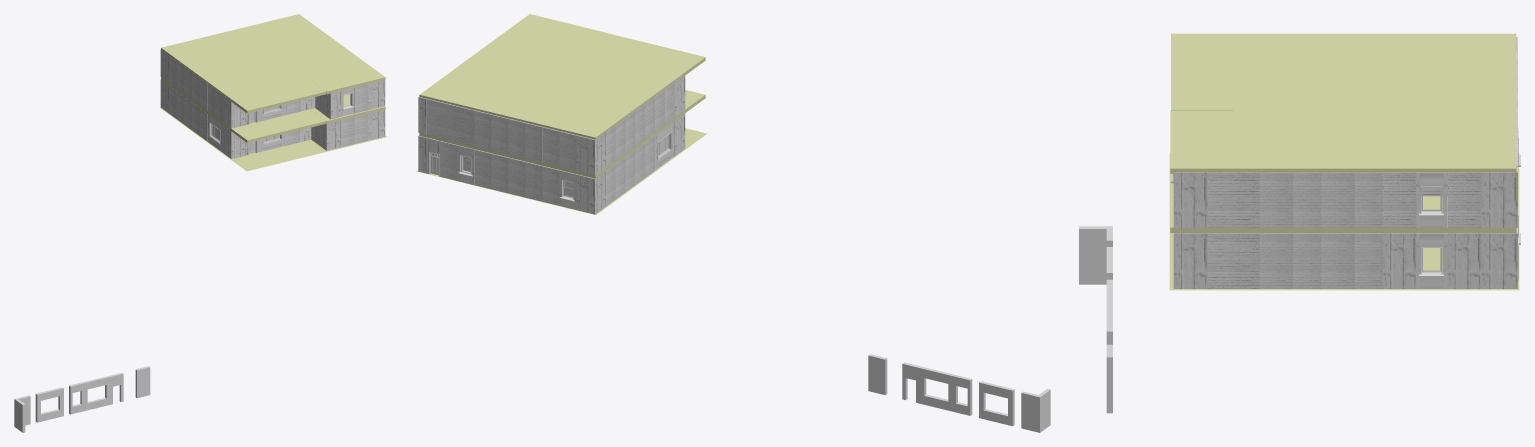
Rendered from house.fbx.
3 renders of one model, left to right at view 1: azimuth 30°, elevation 25°; view 2: azimuth 150°, elevation 25°; view 3: azimuth 270°, elevation 25°, orthographic. The views are drawn at different scales.
Visible parts, largest first — view 1: Plane.002, Plane.001, Plane, Base Jendela Modif, Base Jendela Besar, Tembok belok dalam.002, Tembok belok dalam, base tembok belok, Tembok belok dalam.013, Tembok belok dalam.003, Tembok belok dalam.018, Tembok belok dalam.014 (+5 smaller); view 2: Plane.002, Tembok.046, Plane.001, base tembok belok, Tembok belok dalam.012, Tembok belok dalam.001, Base Jendela Modif, Base Jendela Besar, Base Tembok, Tembok.008, Tembok.011, Tembok.042 (+10 smaller); view 3: Plane.002, Tembok.030, Tembok.056, Plane.001, Tembok belok dalam.017, Tembok belok dalam.011, Tembok belok dalam.014, Tembok belok dalam.003, Tembok belok dalam.010, Tembok.065, Tembok belok dalam.009, Tembok.066 (+13 smaller).
Part boxes in pixels (bbox=[...]): Plane.002: bbox=[161, 14, 385, 113]; Plane.001: bbox=[161, 77, 385, 142]; Plane: bbox=[159, 107, 386, 171]; Base Jendela Modif: bbox=[35, 387, 63, 422]; Base Jendela Besar: bbox=[82, 376, 110, 411]; Tembok belok dalam.002: bbox=[318, 120, 341, 150]; Tembok belok dalam: bbox=[223, 125, 245, 158]; base tembok belok: bbox=[14, 395, 30, 432]; Tembok belok dalam.013: bbox=[223, 95, 245, 128]; Tembok belok dalam.003: bbox=[368, 109, 385, 140]; Tembok belok dalam.018: bbox=[322, 91, 341, 119]; Tembok belok dalam.014: bbox=[368, 80, 385, 110]; Plane.002: bbox=[419, 14, 705, 139]; Tembok.046: bbox=[426, 98, 474, 146]; Plane.001: bbox=[419, 90, 705, 178]; base tembok belok: bbox=[1021, 389, 1050, 432]; Tembok belok dalam.012: bbox=[576, 132, 605, 175]; Tembok belok dalam.001: bbox=[576, 171, 605, 214]; Base Jendela Modif: bbox=[979, 381, 1014, 426]; Base Jendela Besar: bbox=[919, 366, 954, 411]; Base Tembok: bbox=[868, 354, 887, 395]; Tembok.008: bbox=[525, 162, 542, 201]; Tembok.011: bbox=[508, 157, 525, 197]; Tembok.042: bbox=[525, 123, 542, 162]; Plane.002: bbox=[1170, 33, 1516, 173]; Tembok.030: bbox=[1207, 233, 1259, 288]; Tembok.056: bbox=[1207, 172, 1259, 227]; Plane.001: bbox=[1170, 174, 1516, 232]; Tembok belok dalam.017: bbox=[1481, 166, 1517, 227]; Tembok belok dalam.011: bbox=[1481, 228, 1517, 288]; Tembok belok dalam.014: bbox=[1173, 172, 1207, 228]; Tembok belok dalam.003: bbox=[1173, 233, 1207, 288]; Tembok belok dalam.010: bbox=[1382, 233, 1416, 288]; Tembok.065: bbox=[1382, 172, 1416, 227]; Tembok belok dalam.009: bbox=[1447, 233, 1480, 288]; Tembok.066: bbox=[1447, 172, 1480, 227].
Bounding box in the file's own units: 5819 × 3515 × 2873.
Materials: 2 (1 with a texture image).
